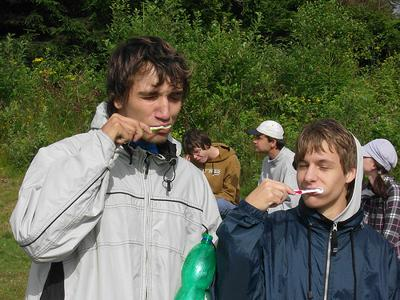person: (10, 38, 226, 300)
